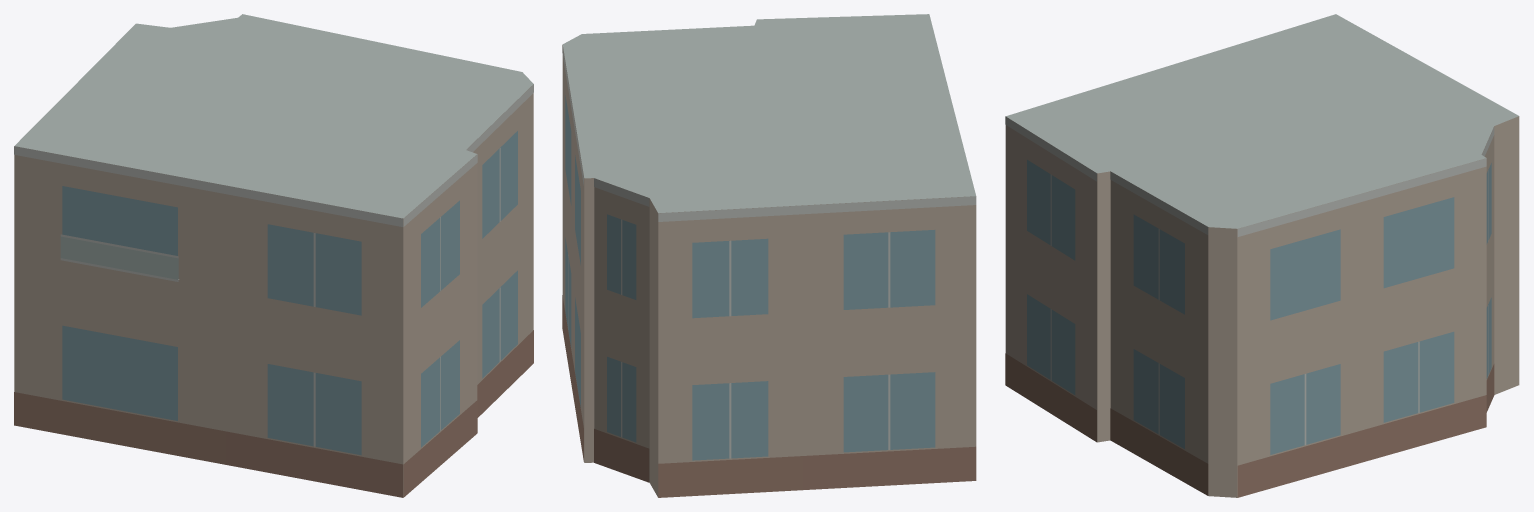
Rendered from survey-upis-32674601.glb.
3 views of the same model, side by side, from view 1: azimuth 30°, elevation 25°; view 2: azimuth 150°, elevation 25°; view 3: azimuth 270°, elevation 25° (orthographic). The views are drawn at different scales.
Parts seen in each view (by area): view 1: survey-upis-32674601.tmp; view 2: survey-upis-32674601.tmp; view 3: survey-upis-32674601.tmp.
Boxes of the visible parts, x1,y1,x2,y2 form: survey-upis-32674601.tmp: (14, 14, 533, 497); survey-upis-32674601.tmp: (562, 14, 976, 497); survey-upis-32674601.tmp: (1005, 14, 1519, 497).
Bounding box in the file's own units: 13.36 × 7.8 × 13.51.
